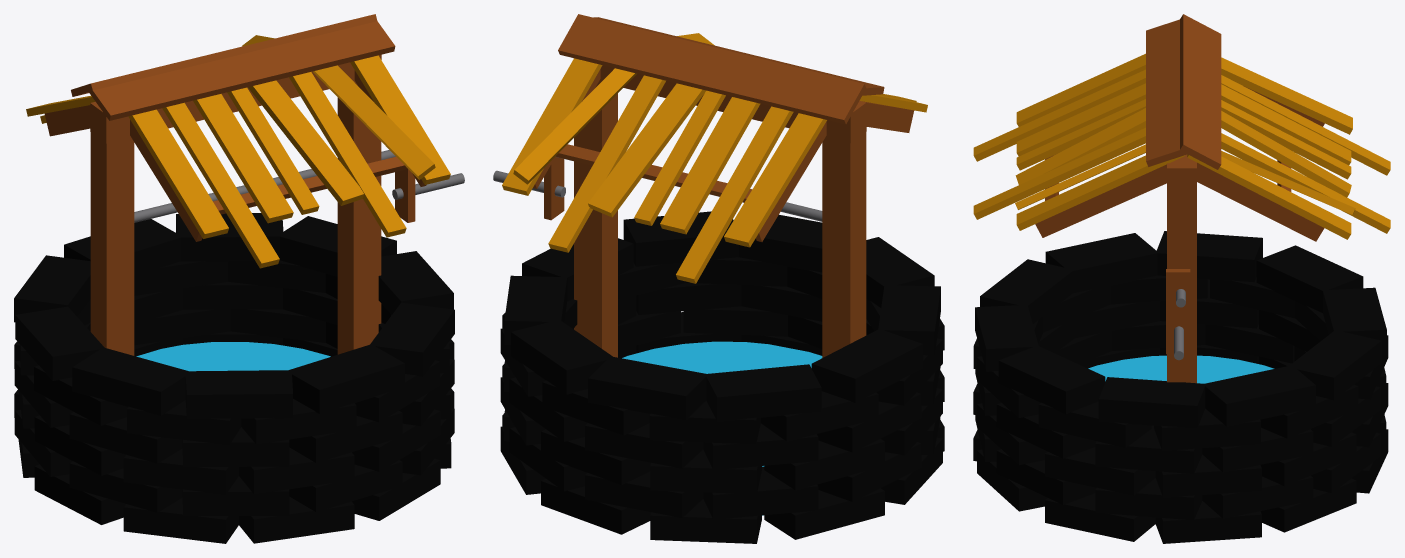
The model's file is Well.fbx.
3 renders of one model, left to right at view 1: azimuth 30°, elevation 25°; view 2: azimuth 150°, elevation 25°; view 3: azimuth 270°, elevation 25°, orthographic. The views are drawn at different scales.
Parts seen in each view (by area): view 1: Cylinder.003; view 2: Cylinder.003; view 3: Cylinder.003.
Boxes of the visible parts, box(x1,y1,x2,y2) form: Cylinder.003: box(14, 14, 464, 543); Cylinder.003: box(493, 14, 944, 543); Cylinder.003: box(973, 14, 1390, 543).
Bounding box in the file's own units: 9.06 × 8.32 × 8.34.
